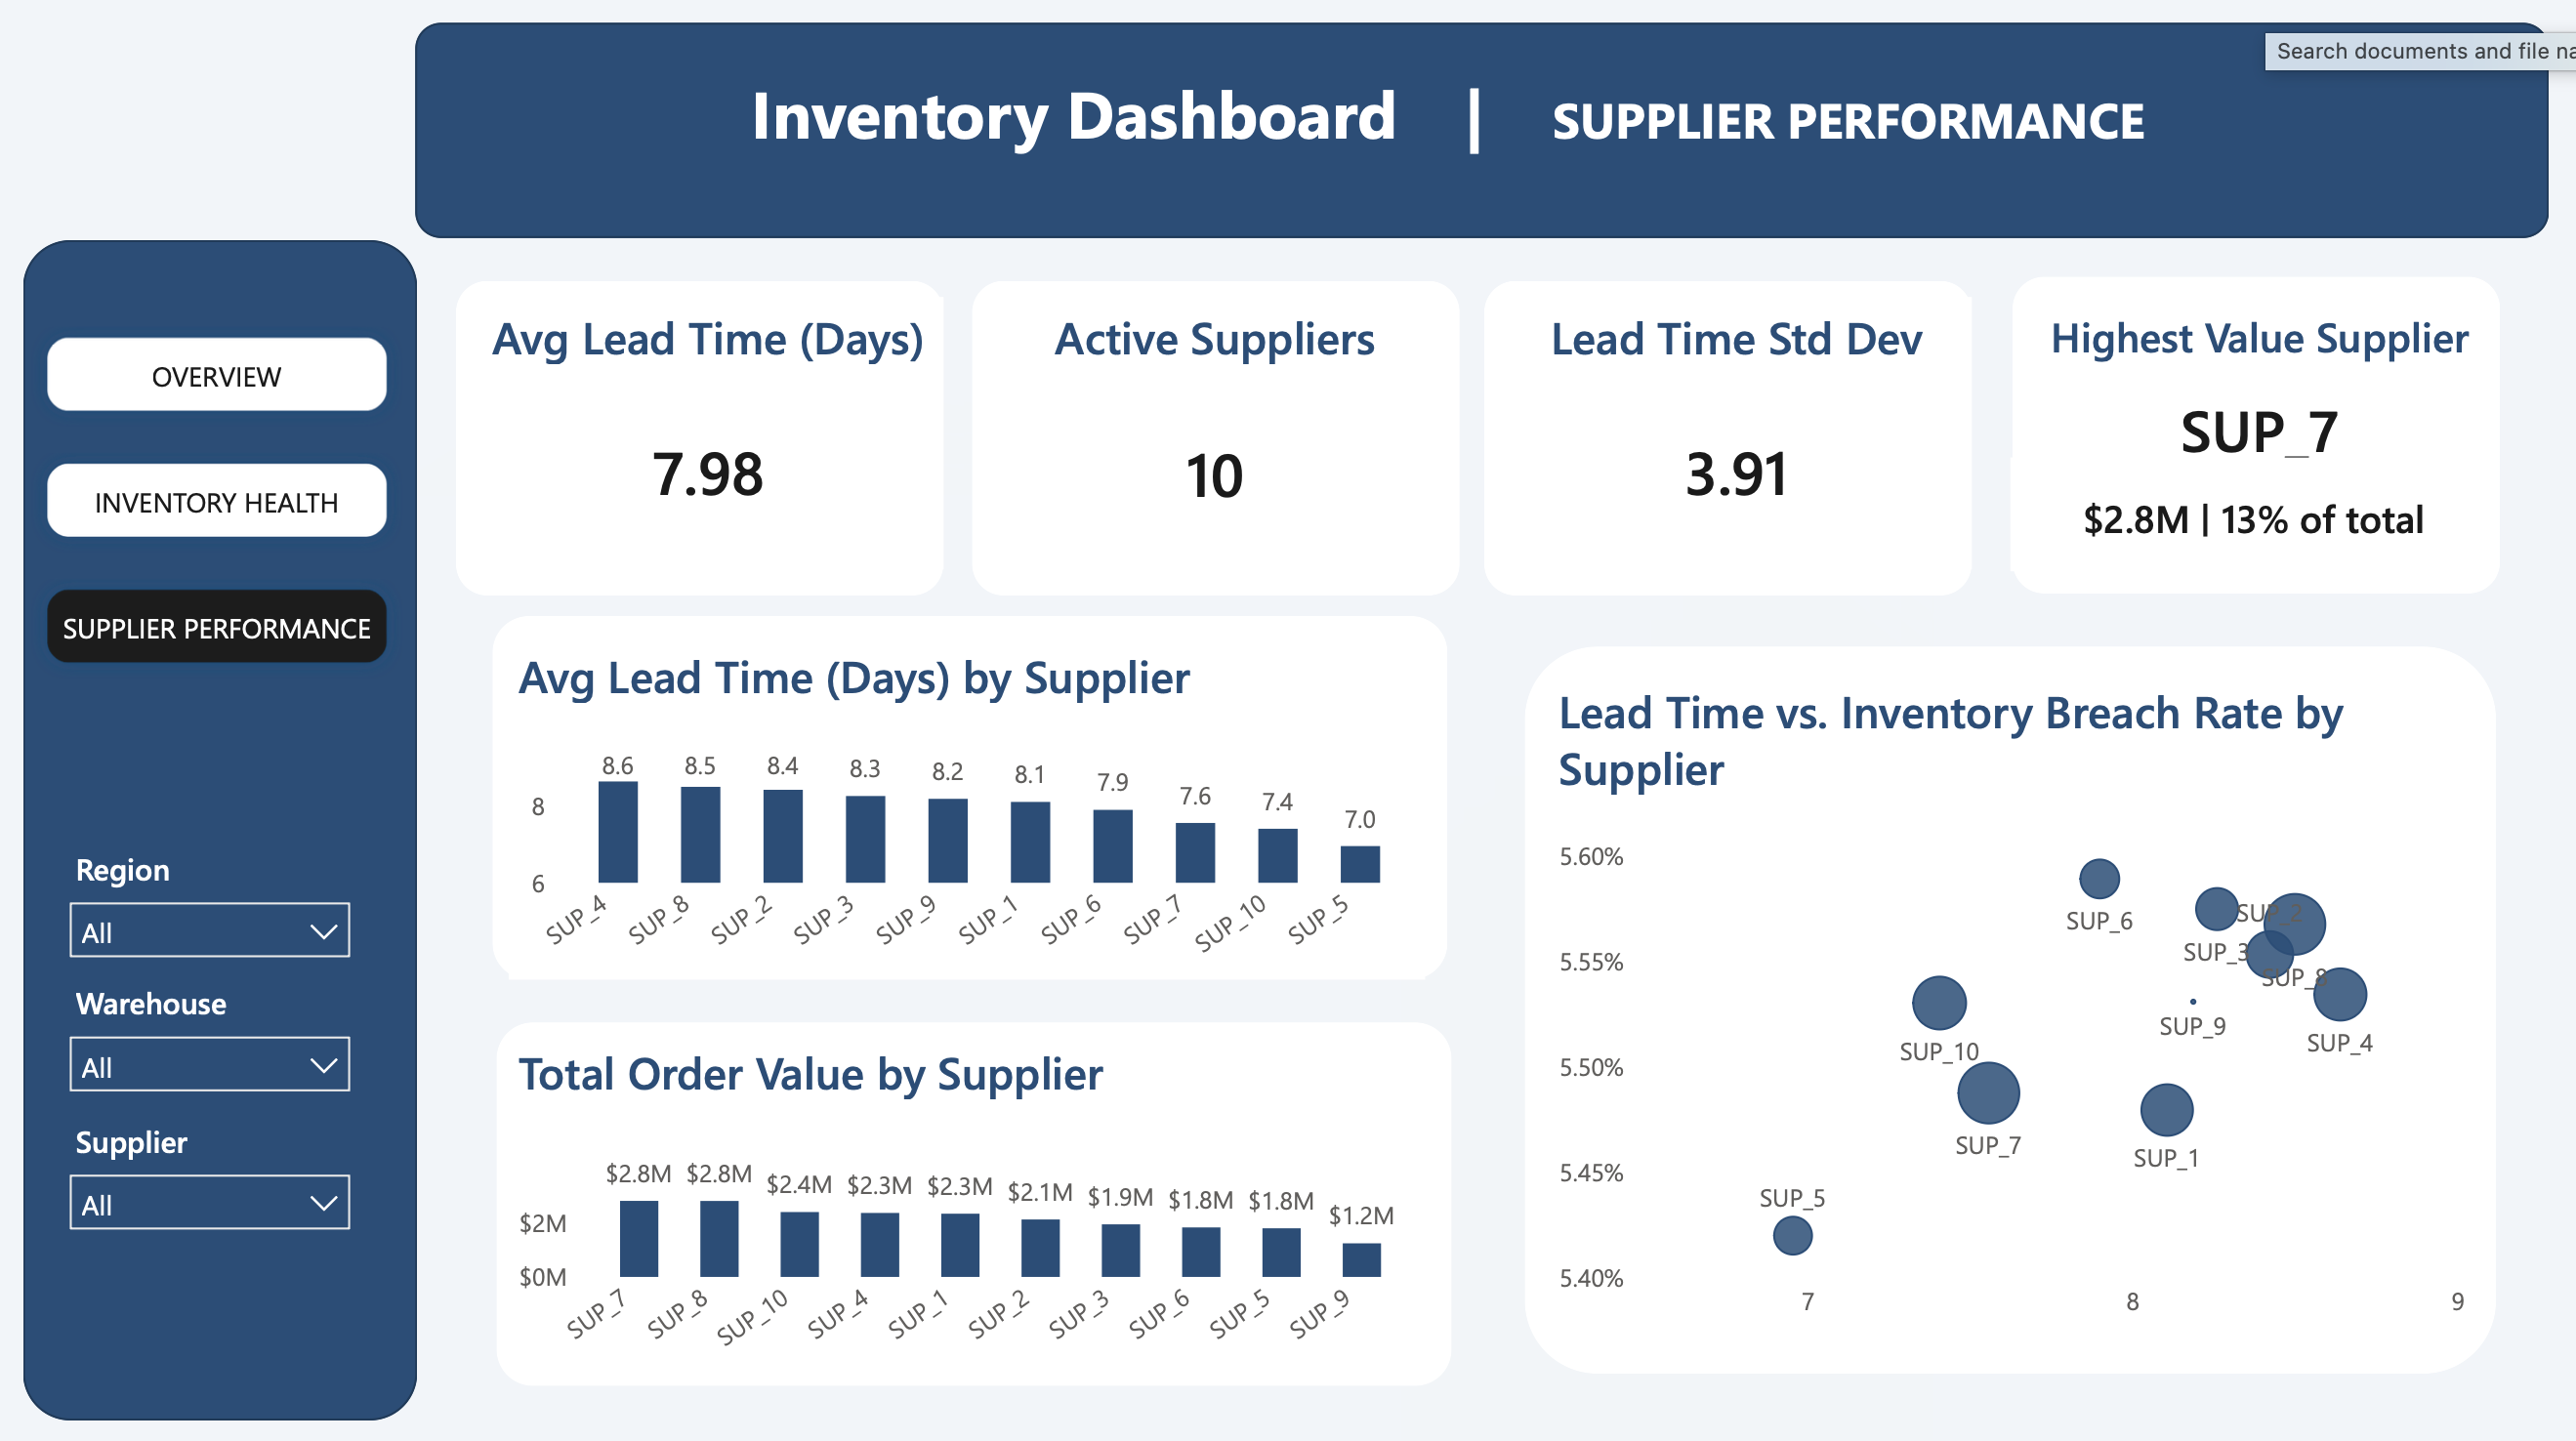

The dashboard page shown, as its layout file describes it:
{"tool":"powerbi","page":{"name":"SUPPLIER PERFORMANCE","canvas":[1280,720],"ordinal":2},"visuals":[{"type":"slicer","fields":{"Values":["DimRegion.Region"]},"box":[33.3,420.2,157.6,68.7],"z":0,"group":"g1"},{"type":"shape","box":[252.9,511.4,470,178.6],"z":0},{"type":"shape","box":[251.4,311.4,470,178.6],"z":1000},{"type":"slicer","fields":{"Values":["DimWarehouse.Warehouse_ID"]},"box":[33.3,485.9,157.6,68.7],"z":1000,"group":"g1"},{"type":"shape","box":[758.6,325.7,478.6,358.6],"z":2000},{"type":"slicer","fields":{"Values":["DimSupplier.Supplier_ID"]},"box":[33.3,554.5,157.6,68.7],"z":2000,"group":"g1"},{"type":"shape","box":[232.9,145.7,240,155.7],"z":3000},{"type":"shape","box":[487.1,145.7,240,155.7],"z":4000},{"type":"shape","box":[738.6,145.7,240,155.7],"z":5000},{"type":"shape","box":[998.6,144.3,240,155.7],"z":6000},{"type":"shape","box":[212.8,18.7,1049.8,106.4],"z":7000},{"type":"cardVisual","title":"Active Suppliers","fields":{"Data":["_Measure.Active Suppliers"]},"box":[491.8,153.9,230.3,135.5],"z":8000},{"type":"textbox","box":[320.7,36,801,71.9],"z":9000},{"type":"shape","box":[20.3,125.7,193.2,581.1],"z":10000},{"type":"pageNavigator","box":[24.3,166.2,182.4,177],"z":11000},{"type":"cardVisual","title":"Avg Lead Time (Days)","fields":{"Data":["_Measure.Avg Lead Time (Days)"]},"box":[241.6,153.9,231.6,134.2],"z":12000},{"type":"cardVisual","title":"Lead Time Std Dev","fields":{"Data":["_Measure.Lead Time Std Dev"]},"box":[747.8,153.9,231.6,134.2],"z":13000},{"type":"clusteredColumnChart","title":"Avg Lead Time (Days) by Supplier","fields":{"Category":["DimSupplier.Supplier_ID"],"Y":["_Measure.Avg Lead Time (Days)"]},"box":[258.6,325.7,451.4,164.3],"z":14000},{"type":"scatterChart","title":"Lead Time vs. Inventory Breach Rate by Supplier","fields":{"Category":["DimSupplier.Supplier_ID"],"X":["_Measure.Avg Lead Time (Days)"],"Y":["_Measure.Reorder Breach Rate"],"Size":["_Measure.Total Order Value"]},"box":[771.4,342.9,455.7,324.3],"z":15000},{"type":"clusteredColumnChart","title":"Total Order Value by Supplier","fields":{"Category":["DimSupplier.Supplier_ID"],"Y":["_Measure.Total Order Value"]},"box":[258.6,521.4,451.4,162.9],"z":16000},{"type":"cardVisual","title":"Highest Value Supplier","fields":{"Data":["_Measure.Highest Value Supplier Name"]},"box":[1005.2,153.9,231.5,100.7],"z":17000},{"type":"group","id":"g1","title":"Group 1","box":[33.3,420.2,157.6,203],"z":18000},{"type":"cardVisual","title":"Highest Value Supplier","fields":{"Data":["_Measure.Highest Value Supplier Label"]},"box":[998.1,233,240.2,56.1],"z":19000}]}

Visuals, with their boxes on the page's 1280x720 design canvas (x1, y1, x2, y2). These are canvas units, not pixel positions in the 2576x1441 screenshot, which may show the page scaled, cropped or inside an application window:
slicer - DimRegion.Region: bbox=(33, 420, 191, 489)
shape: bbox=(253, 511, 723, 690)
shape: bbox=(251, 311, 721, 490)
slicer - DimWarehouse.Warehouse_ID: bbox=(33, 486, 191, 555)
shape: bbox=(759, 326, 1237, 684)
slicer - DimSupplier.Supplier_ID: bbox=(33, 554, 191, 623)
shape: bbox=(233, 146, 473, 301)
shape: bbox=(487, 146, 727, 301)
shape: bbox=(739, 146, 979, 301)
shape: bbox=(999, 144, 1239, 300)
shape: bbox=(213, 19, 1263, 125)
"Active Suppliers" cardVisual: bbox=(492, 154, 722, 289)
textbox: bbox=(321, 36, 1122, 108)
shape: bbox=(20, 126, 214, 707)
pageNavigator: bbox=(24, 166, 207, 343)
"Avg Lead Time (Days)" cardVisual: bbox=(242, 154, 473, 288)
"Lead Time Std Dev" cardVisual: bbox=(748, 154, 979, 288)
"Avg Lead Time (Days) by Supplier" clusteredColumnChart: bbox=(259, 326, 710, 490)
"Lead Time vs. Inventory Breach Rate by Supplier" scatterChart: bbox=(771, 343, 1227, 667)
"Total Order Value by Supplier" clusteredColumnChart: bbox=(259, 521, 710, 684)
"Highest Value Supplier" cardVisual: bbox=(1005, 154, 1237, 255)
"Group 1" group: bbox=(33, 420, 191, 623)
"Highest Value Supplier" cardVisual: bbox=(998, 233, 1238, 289)
